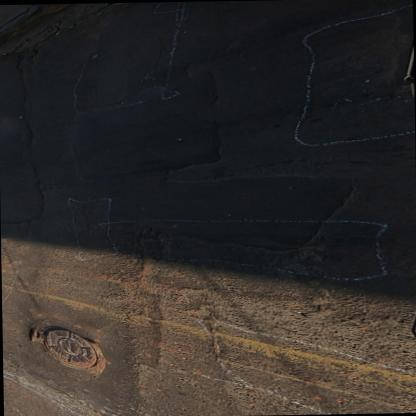manholes: (25, 322, 106, 374)
